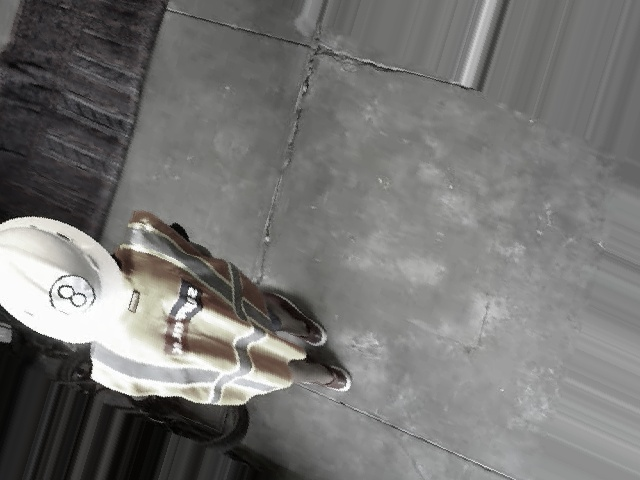eight: (44, 264, 99, 325)
